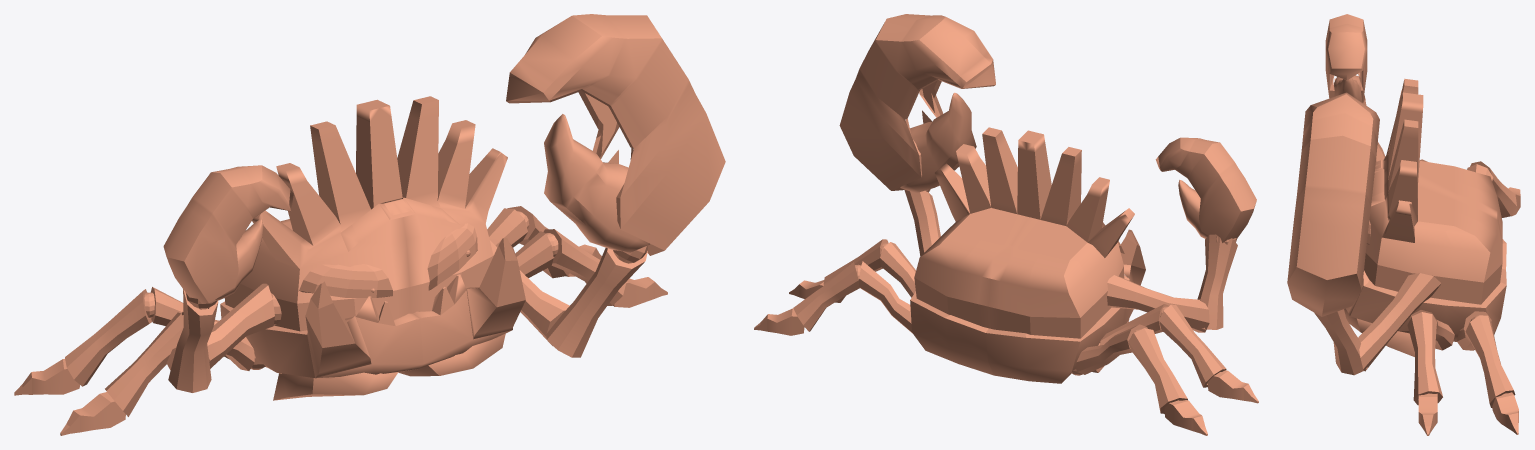
File: kingler.glb
The picture shows the model from 3 angles, left to right: view 1: azimuth 30°, elevation 25°; view 2: azimuth 150°, elevation 25°; view 3: azimuth 270°, elevation 25°; orthographic projection. The views are drawn at different scales.
Visible parts, largest first — view 1: Node; view 2: Node; view 3: Node.
Boxes of the visible parts, x1,y1,x2,y2 form: Node: (14, 14, 725, 435); Node: (754, 14, 1258, 435); Node: (1287, 14, 1520, 435).
Size of the model in its own units: 23.73 by 13.41 by 9.77.
